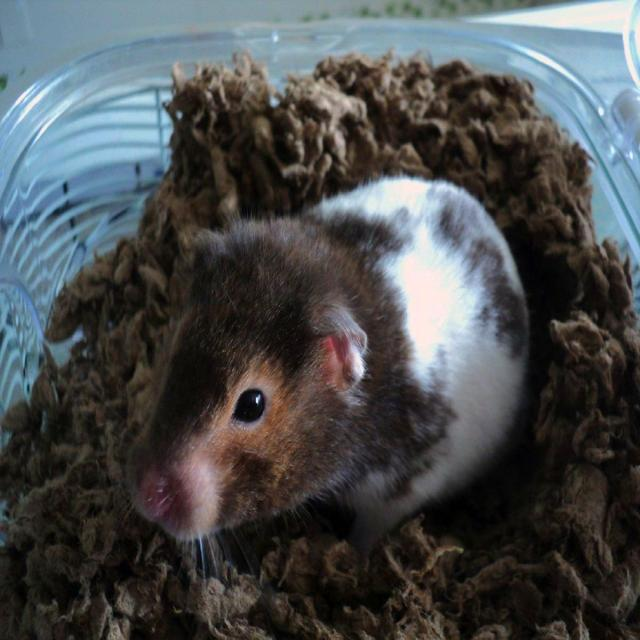hamster: (128, 178, 529, 557)
